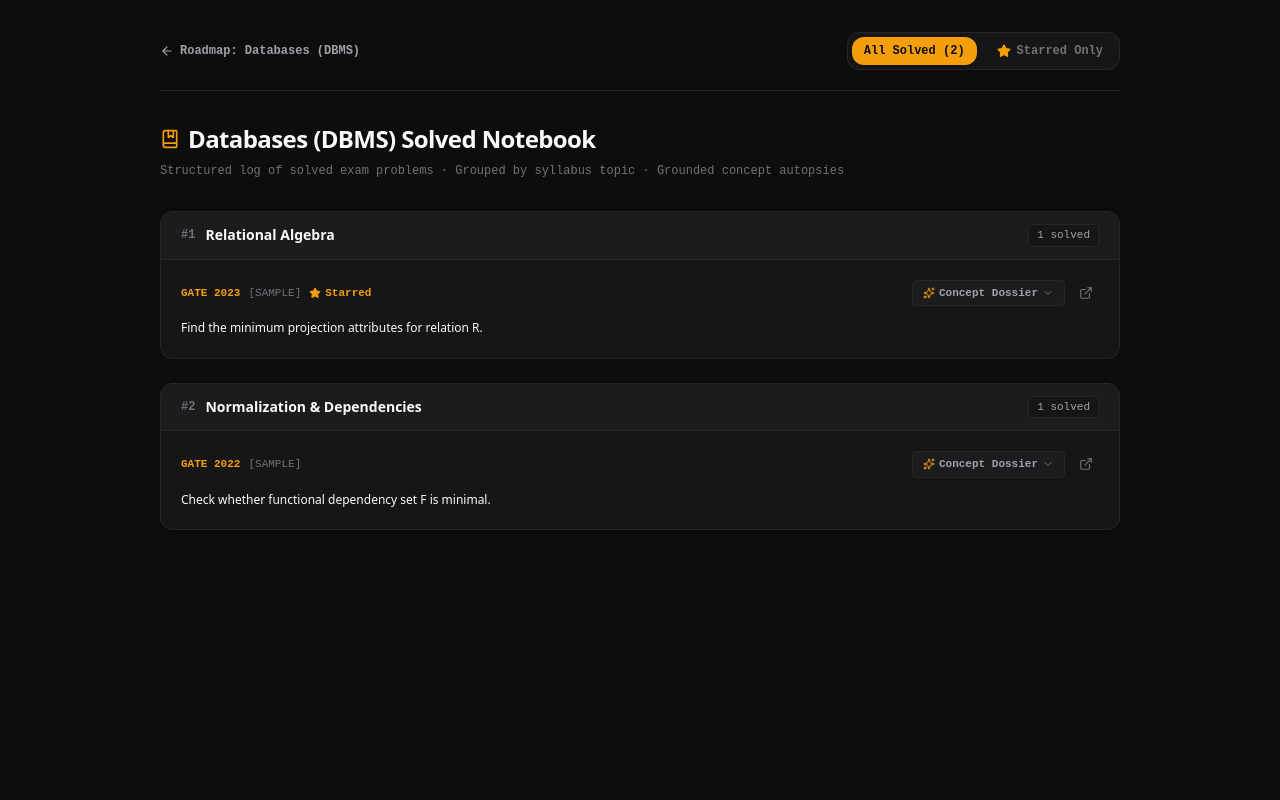
Test: SubjectNotebookPage › expands Anatomy Dossier and displays tested concept and invariant (PC-6 zero new AI)
The image size is (1280, 800).
Expected: the element with test id "subject-notebook-page" is shown, [128,0,1152,562]
Step 1. Click the button with test id "btn-toggle-anatomy-q-nb-1" → click(988, 293), box [912,280,1065,306]
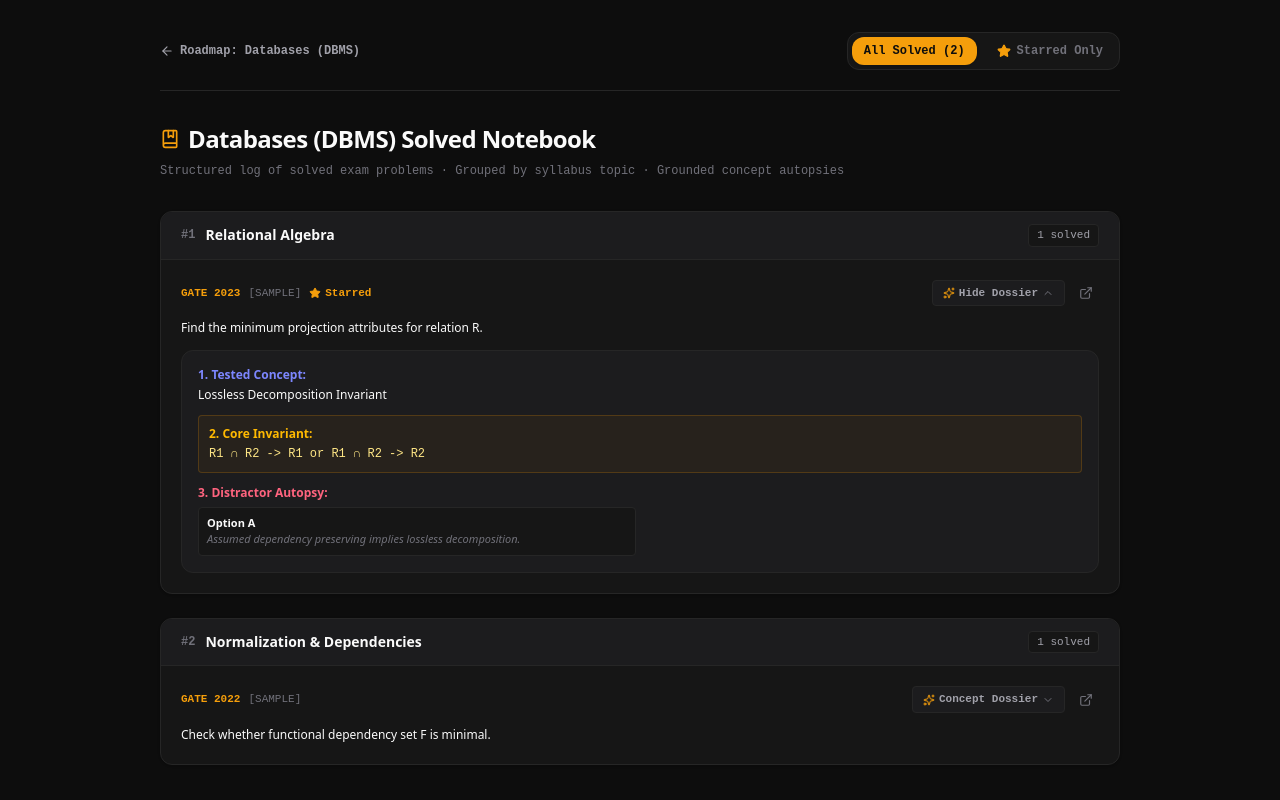
Expected: the text "Lossless Decomposition Invariant" is shown, [198,386,387,402]
Expected: the text "R1 ∩ R2 -> R1 or R1 ∩ R2 -> R2" is shown, [209,446,425,460]
